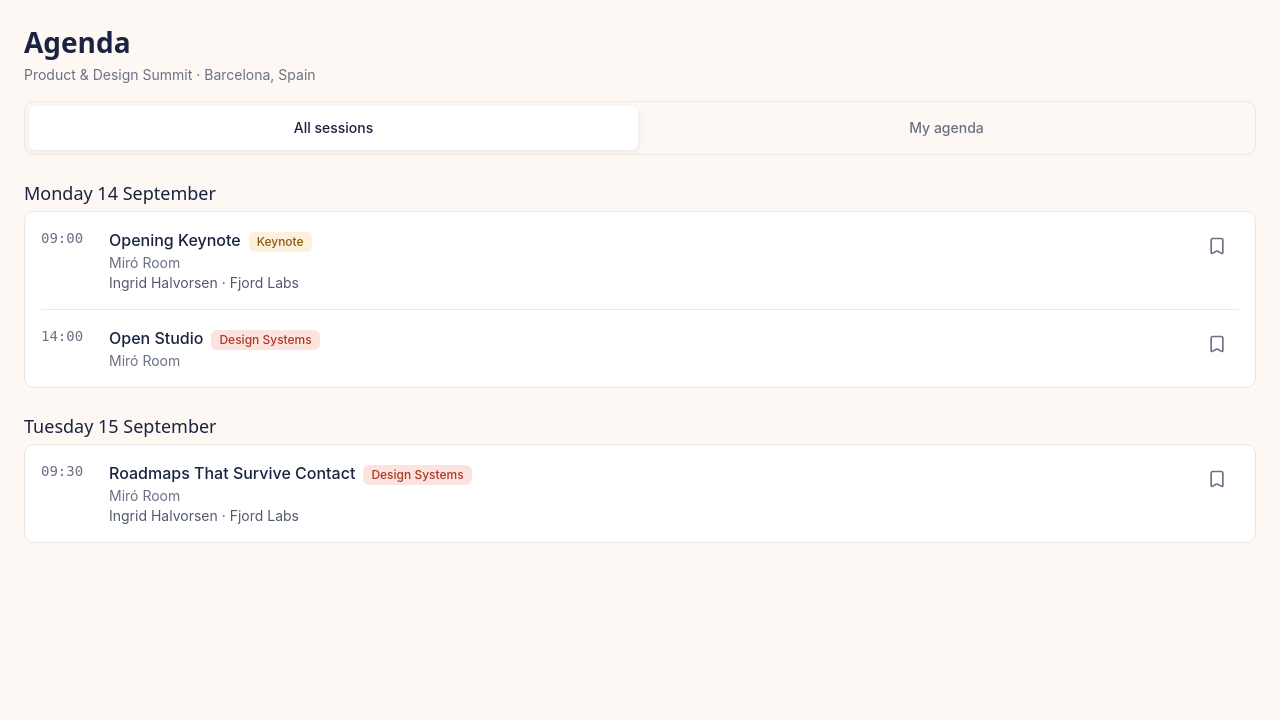
Test case: the note status › returns to a non-committal status when typing resumes after a save
The image size is (1280, 720).
Click the link "Opening Keynote". click: (175, 240)
box: [109, 230, 241, 250]
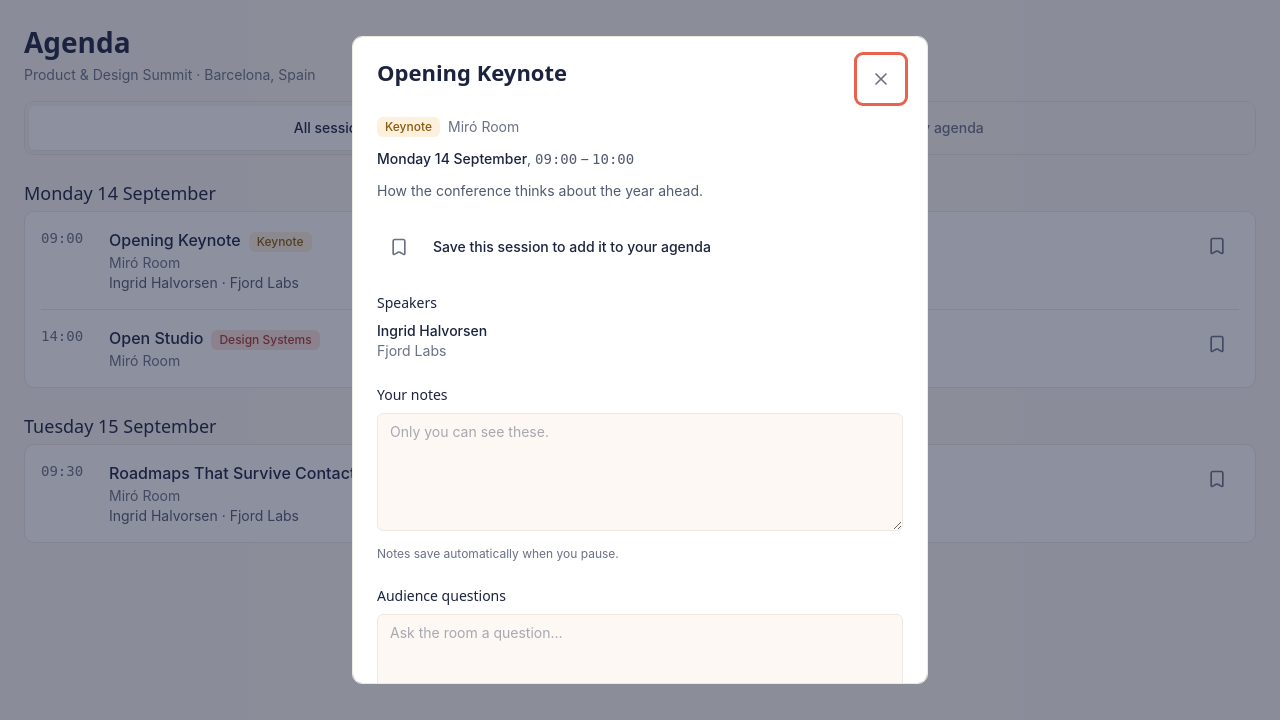
Expected: the heading "Opening Keynote" is shown, [377, 57, 567, 88]
Type "First." into the text box named "private notes". click: (640, 472)
box: [377, 413, 903, 531]
Wait 1300 ms
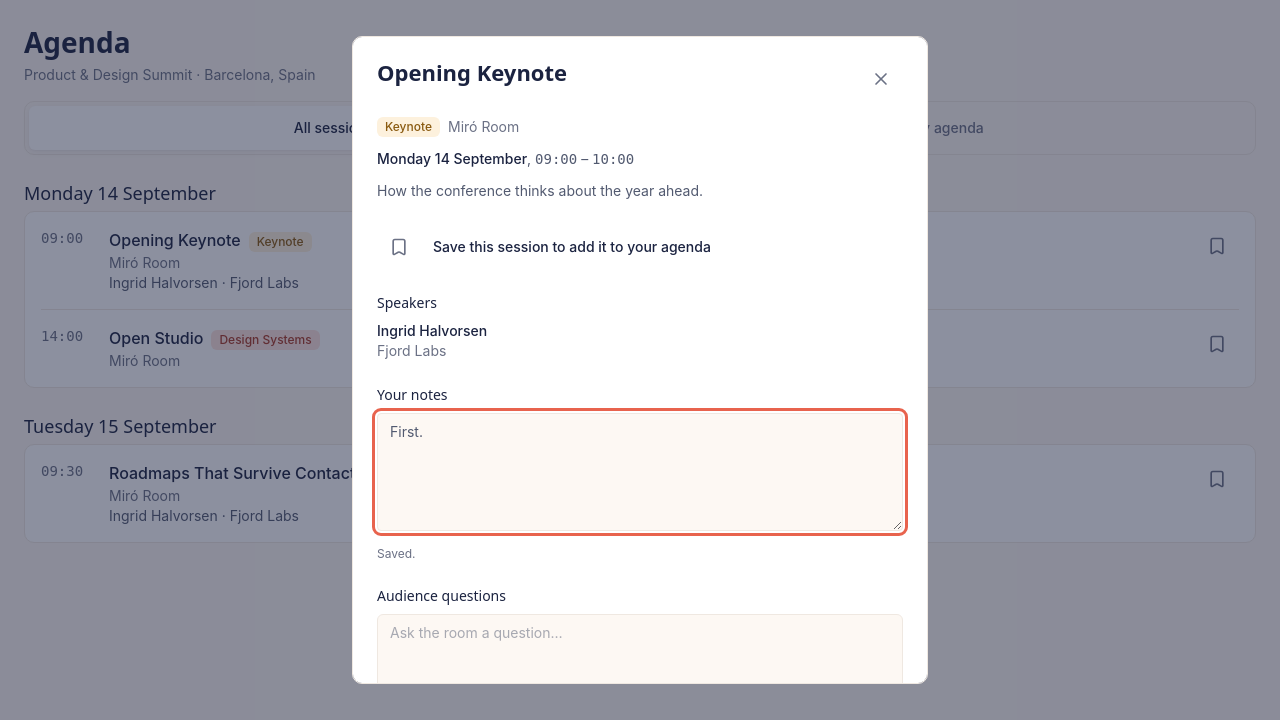
Expected: the message reads "Saved.", [377, 546, 416, 561]
Type " More." into the text box named "private notes". click: (640, 472)
box: [377, 413, 903, 531]
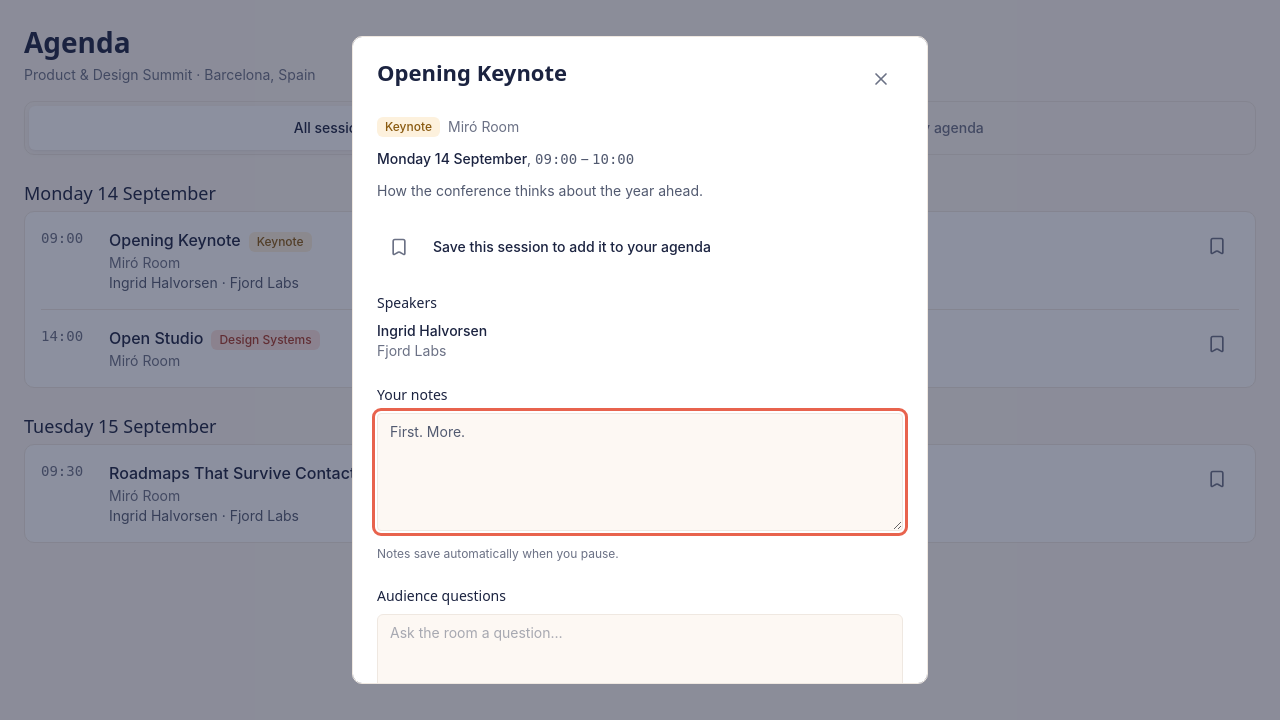
Expected: the message no longer shows "Saved.", [377, 546, 619, 562]
